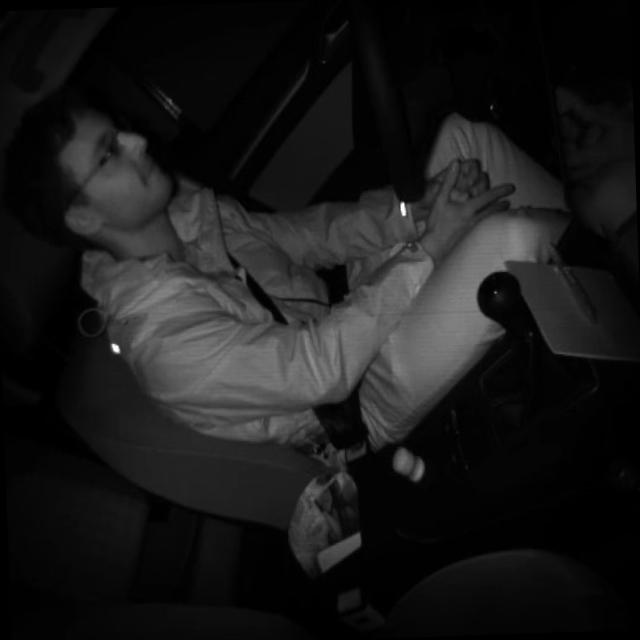pen: (545, 230, 601, 330)
